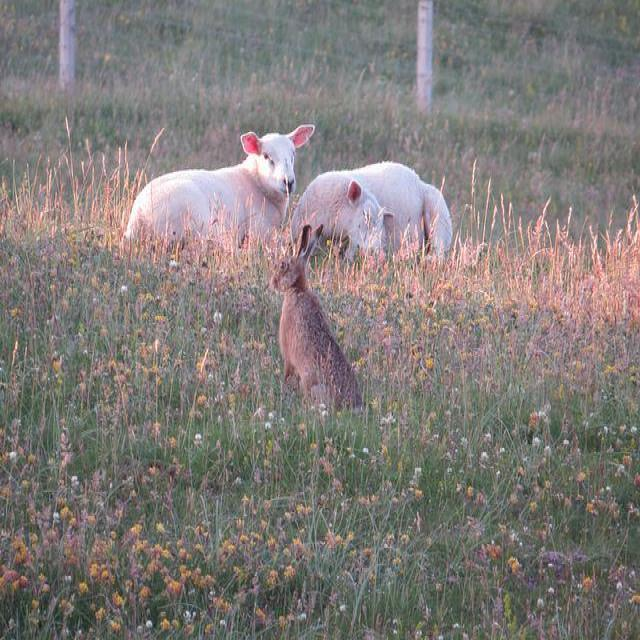Sheep: (126, 127, 315, 244), (289, 160, 454, 263)
